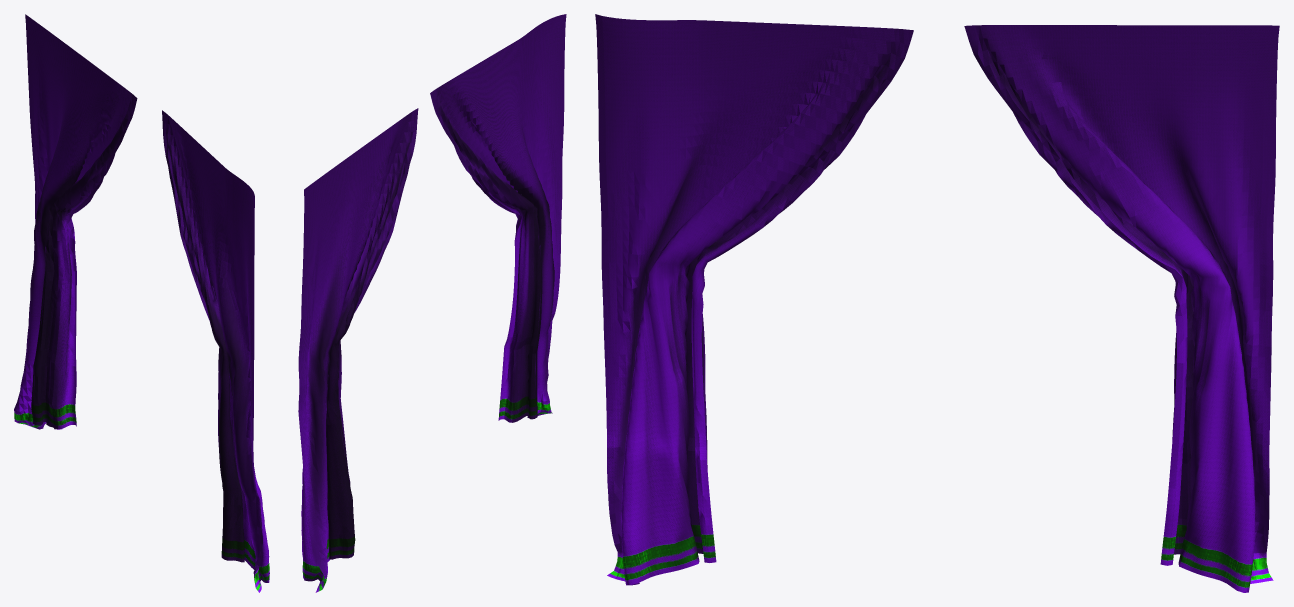
File: curtain2.obj
3 renders of one model, left to right at view 1: azimuth 30°, elevation 25°; view 2: azimuth 150°, elevation 25°; view 3: azimuth 270°, elevation 25°, orthographic. The views are drawn at different scales.
Visible parts, largest first — view 1: polySurface2; view 2: polySurface2; view 3: polySurface2.
Boxes of the visible parts, bbox=[...] form: polySurface2: bbox=[14, 14, 269, 592]; polySurface2: bbox=[298, 14, 566, 592]; polySurface2: bbox=[595, 14, 1279, 592].
Bounding box in the file's own units: 0.4084 × 4.18 × 4.62.
Materials: 1 (1 with a texture image).
